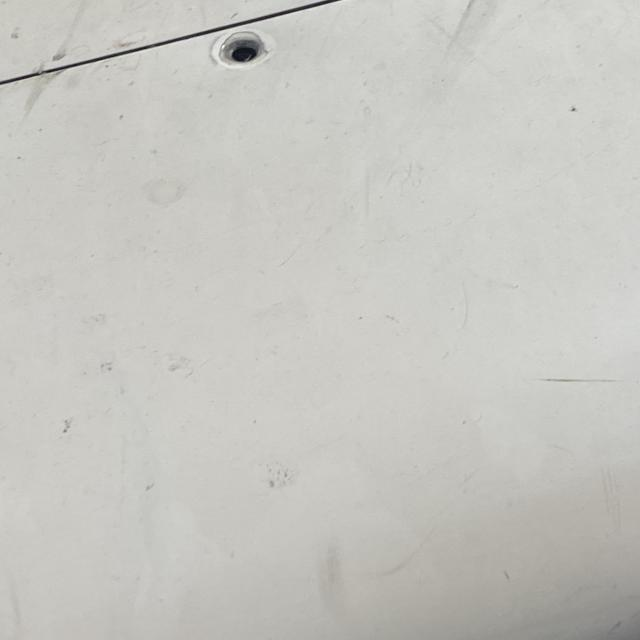Missing-head: (210, 28, 268, 66)
